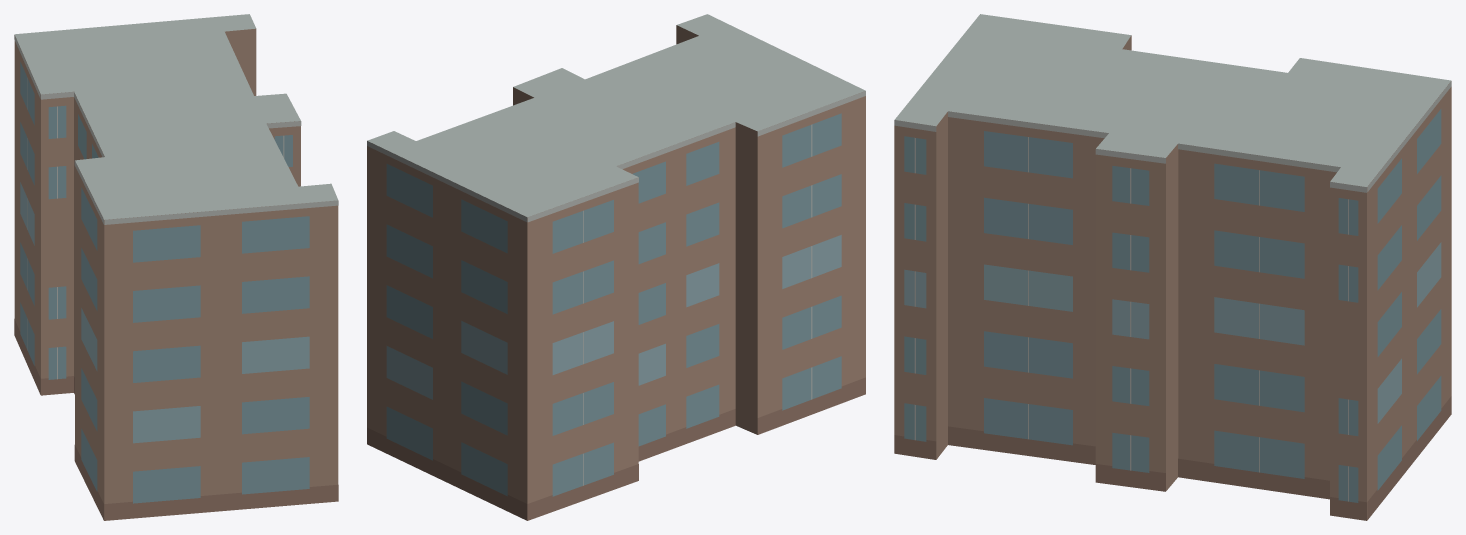
Rendered from survey-upis-32999210.glb.
3 views of the same model, side by side, from view 1: azimuth 30°, elevation 25°; view 2: azimuth 150°, elevation 25°; view 3: azimuth 270°, elevation 25° (orthographic). The views are drawn at different scales.
Parts seen in each view (by area): view 1: survey-upis-32999210.tmp; view 2: survey-upis-32999210.tmp; view 3: survey-upis-32999210.tmp.
Boxes of the visible parts, x1,y1,x2,y2 form: survey-upis-32999210.tmp: [14, 14, 338, 520]; survey-upis-32999210.tmp: [367, 14, 865, 520]; survey-upis-32999210.tmp: [894, 14, 1451, 520].
Bounding box in the file's own units: 15.81 × 14.2 × 21.49.
